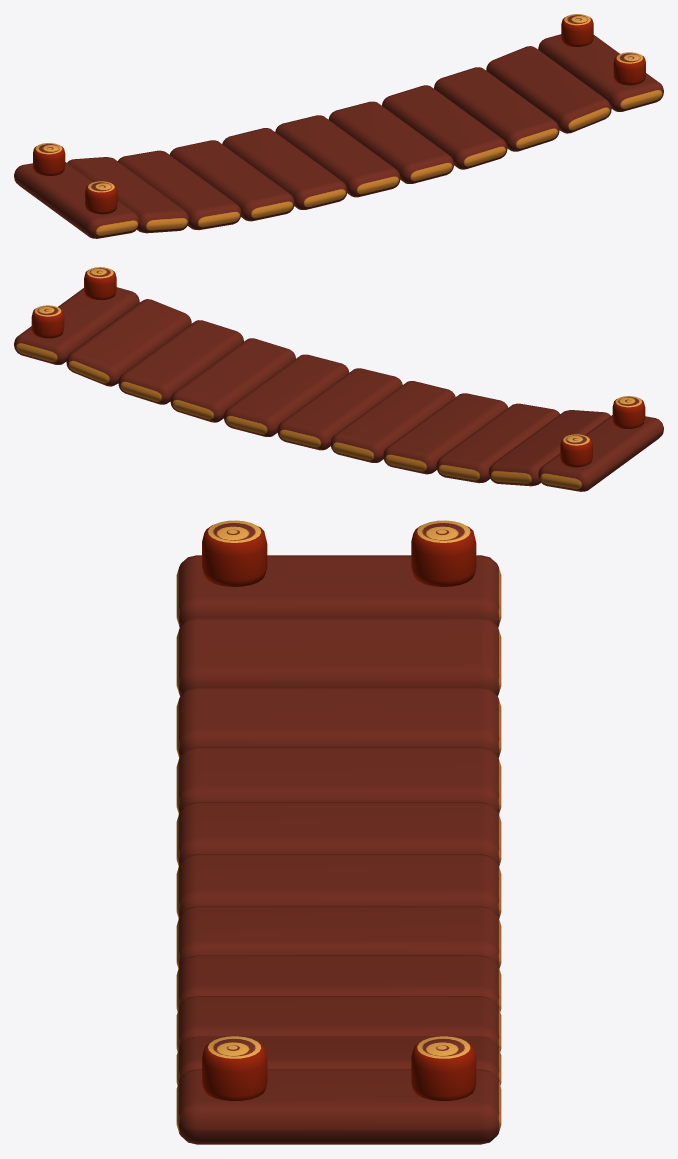
The model's file is BridgeStatic.fbx.
3 renders of one model, top to bottom at view 1: azimuth 30°, elevation 25°; view 2: azimuth 150°, elevation 25°; view 3: azimuth 270°, elevation 25°, orthographic. The views are drawn at different scales.
Visible parts, largest first — view 1: BridgeStatic5, BridgeStatic3, BridgeStatic4, BridgeStatic2, BridgeStatic1; view 2: BridgeStatic5, BridgeStatic2, BridgeStatic3, BridgeStatic1, BridgeStatic4; view 3: BridgeStatic5, BridgeStatic1, BridgeStatic3, BridgeStatic2, BridgeStatic4.
Part boxes in pixels (left/top/right/bottom): BridgeStatic5: left=14, top=34, right=663, bottom=238; BridgeStatic3: left=85, top=181, right=117, bottom=214; BridgeStatic4: left=613, top=52, right=645, bottom=85; BridgeStatic2: left=561, top=14, right=593, bottom=46; BridgeStatic1: left=33, top=143, right=65, bottom=175; BridgeStatic5: left=14, top=287, right=663, bottom=491; BridgeStatic2: left=31, top=305, right=64, bottom=338; BridgeStatic3: left=612, top=396, right=645, bottom=428; BridgeStatic1: left=560, top=434, right=592, bottom=467; BridgeStatic4: left=84, top=267, right=116, bottom=299; BridgeStatic5: left=176, top=555, right=501, bottom=1144; BridgeStatic1: left=411, top=520, right=476, bottom=586; BridgeStatic3: left=202, top=520, right=267, bottom=586; BridgeStatic2: left=411, top=1036, right=476, bottom=1100; BridgeStatic4: left=202, top=1036, right=267, bottom=1100.
Size of what is drawn, in the model's own units: 8.15 by 0.8503 by 1.99.
